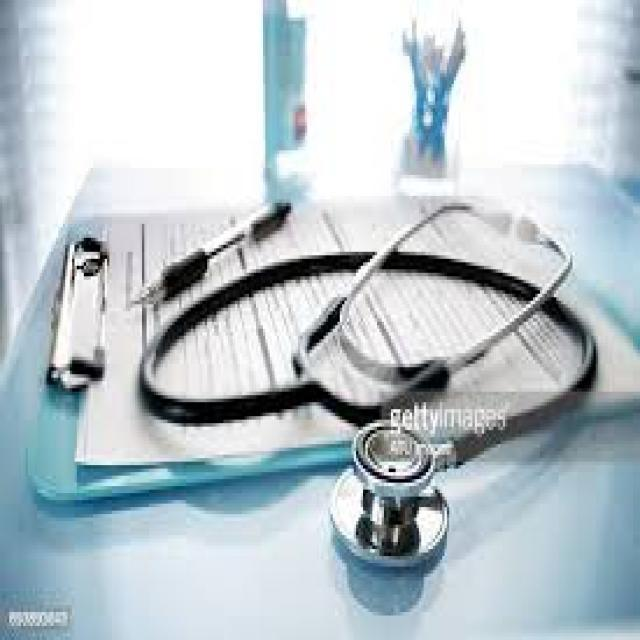stethoscope: (113, 151, 561, 581)
